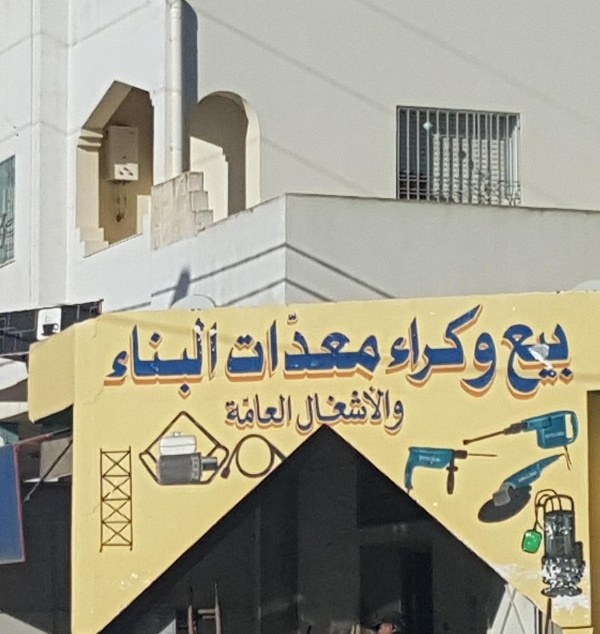text: (401, 303, 416, 387), (417, 303, 432, 387), (433, 303, 448, 387), (449, 303, 464, 387), (465, 303, 480, 387), (113, 318, 128, 399), (129, 318, 144, 399), (145, 318, 160, 399), (161, 318, 176, 399), (177, 318, 192, 399), (193, 318, 208, 399), (513, 323, 528, 399), (529, 323, 544, 399), (545, 323, 560, 399), (225, 314, 240, 384), (241, 314, 256, 384), (257, 314, 272, 384), (273, 314, 288, 384), (289, 314, 304, 384), (305, 314, 320, 384), (321, 314, 336, 384), (337, 314, 352, 384), (353, 314, 368, 384), (369, 314, 384, 384), (481, 332, 496, 399), (561, 323, 574, 399), (305, 381, 320, 436), (321, 381, 336, 436), (337, 381, 352, 436), (353, 381, 368, 436), (369, 381, 384, 436), (385, 395, 400, 442), (209, 318, 217, 399), (504, 323, 512, 399), (241, 392, 256, 432), (257, 392, 272, 432), (273, 392, 288, 432), (393, 303, 400, 387), (105, 318, 112, 399), (227, 392, 240, 432), (296, 381, 304, 436), (474, 332, 480, 399), (481, 303, 485, 387), (378, 395, 384, 442), (385, 381, 390, 436), (401, 395, 406, 442), (497, 332, 499, 399), (289, 392, 291, 432)
